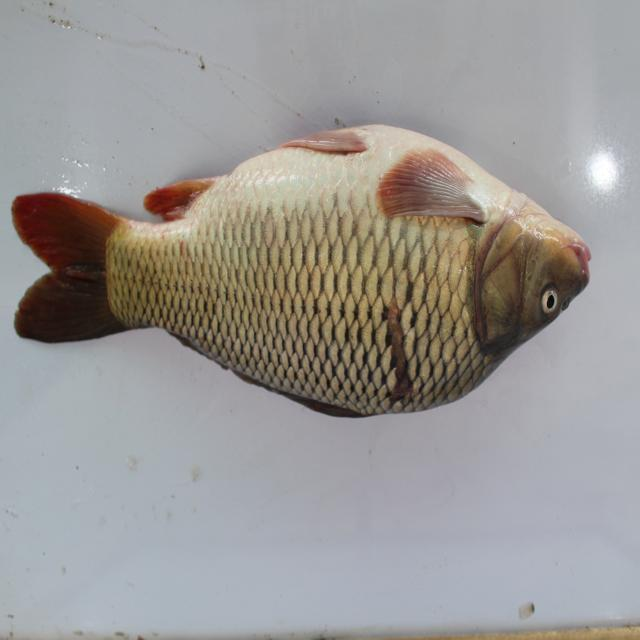CommonCarp: (7, 116, 603, 433)
